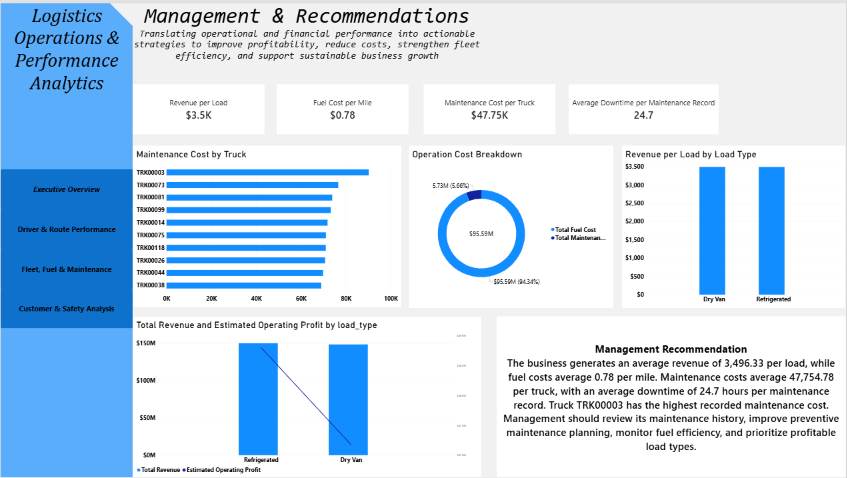

What the dashboard file says about the page in this screenshot:
{"tool":"powerbi","page":{"name":"Management & Recommendations","canvas":[3840,2160],"ordinal":4},"visuals":[{"type":"shape","box":[0,0,599.6,2157.7],"z":0},{"type":"cardVisual","fields":{"Data":["Fuel Purchases.Maintenance Cost per Truck"]},"box":[1921.5,368,599.6,227.1],"z":1000},{"type":"cardVisual","fields":{"Data":["Loads.Revenue per Load"]},"box":[599.6,368,599.6,227.1],"z":2000},{"type":"cardVisual","fields":{"Data":["Fuel Purchases.Average Downtime per Maintenance Record"]},"box":[2580.2,368,681.4,227.1],"z":3000},{"type":"cardVisual","fields":{"Data":["Fuel Purchases.Fuel Cost per Mile"]},"box":[1253.8,368,599.6,227.1],"z":4000},{"type":"donutChart","title":"Operation Cost Breakdown","fields":{"Y":["Loads.Total Fuel Cost","Maintenance Record.Total Maintenance Cost"]},"box":[1853.4,645.1,931.2,740.4],"z":5000},{"type":"clusteredBarChart","title":"Maintenance Cost by Truck","fields":{"Category":["Maintenance Record.truck_id"],"Y":["Maintenance Record.Total Maintenance Cost"]},"box":[599.6,645.1,1222,735.9],"z":6000},{"type":"clusteredColumnChart","title":"Revenue per Load by Load Type","fields":{"Category":["Loads.load_type"],"Y":["Loads.Revenue per Load"]},"box":[2821,645.1,1017.5,740.4],"z":7000},{"type":"lineClusteredColumnComboChart","fields":{"Category":["Loads.load_type"],"Y":["Loads.Total Revenue"],"Y2":["Loads.Estimated Operating Profit"]},"box":[599.6,1421.8,1585.4,735.9],"z":8000},{"type":"cardVisual","fields":{"Data":["Loads.Management Recommendation"]},"box":[2253.1,1421.8,1585.4,735.9],"z":9000},{"type":"textbox","box":[599.6,0,1585.4,281.6],"z":10000},{"type":"actionButton","box":[0,935.8,599.6,181.7],"z":11000},{"type":"actionButton","box":[0,754.1,599.6,181.7],"z":12000},{"type":"actionButton","box":[0,1117.5,599.6,181.7],"z":13000},{"type":"actionButton","box":[0,1299.2,599.6,177.2],"z":14000},{"type":"textbox","box":[0,0,599.6,481.5],"z":15000}]}

Visuals, with their boxes on the page's 3840x2160 design canvas (x1, y1, x2, y2). These are canvas units, not pixel positions in the 847x478 screenshot, which may show the page scaled, cropped or inside an application window:
shape: (0,0,600,2158)
cardVisual - Fuel Purchases.Maintenance Cost per Truck: (1922,368,2521,595)
cardVisual - Loads.Revenue per Load: (600,368,1199,595)
cardVisual - Fuel Purchases.Average Downtime per Maintenance Record: (2580,368,3262,595)
cardVisual - Fuel Purchases.Fuel Cost per Mile: (1254,368,1853,595)
"Operation Cost Breakdown" donutChart: (1853,645,2785,1386)
"Maintenance Cost by Truck" clusteredBarChart: (600,645,1822,1381)
"Revenue per Load by Load Type" clusteredColumnChart: (2821,645,3838,1386)
lineClusteredColumnComboChart - Loads.load_type x Loads.Total Revenue: (600,1422,2185,2158)
cardVisual - Loads.Management Recommendation: (2253,1422,3838,2158)
textbox: (600,0,2185,282)
actionButton: (0,936,600,1118)
actionButton: (0,754,600,936)
actionButton: (0,1118,600,1299)
actionButton: (0,1299,600,1476)
textbox: (0,0,600,482)
